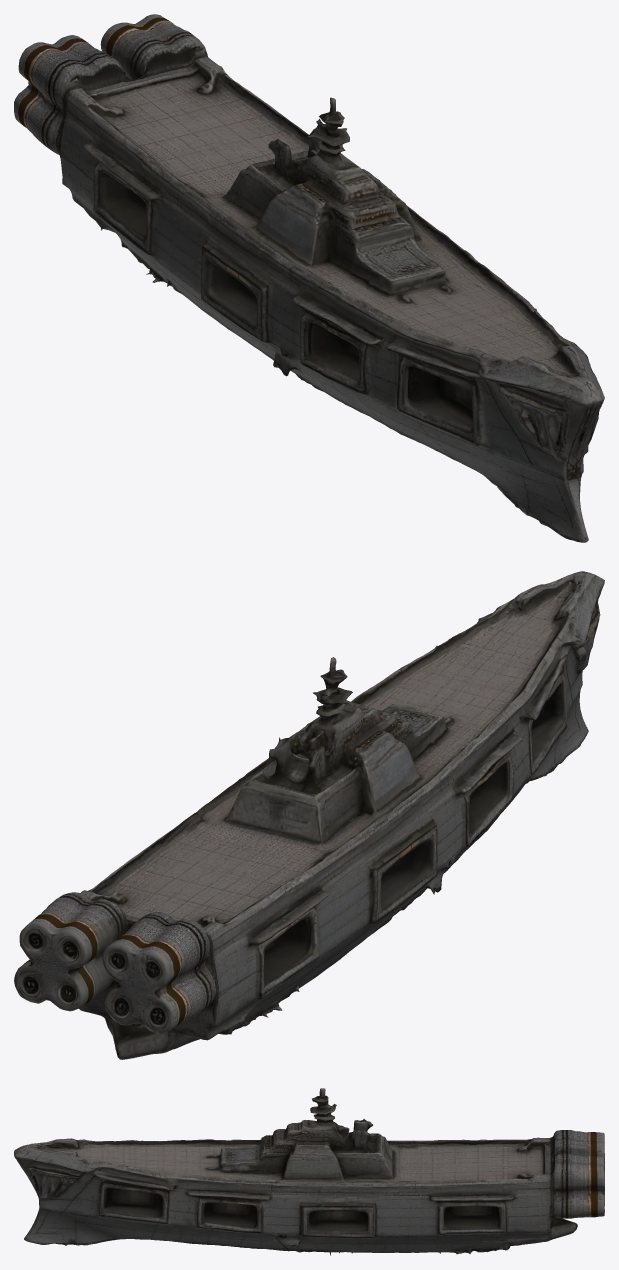
File: gran_titan.glb
3 renders of one model, top to bottom at view 1: azimuth 30°, elevation 25°; view 2: azimuth 150°, elevation 25°; view 3: azimuth 270°, elevation 25°, orthographic. The views are drawn at different scales.
Visible parts, largest first — view 1: input; view 2: input; view 3: input.
Part boxes in pixels (x1,y1,x2,y2): input: [14, 14, 604, 542]; input: [14, 571, 604, 1059]; input: [14, 1088, 604, 1255].
Bounding box in the file's own units: 83.19 × 122 × 400.
Materials: 1 (1 with a texture image).
